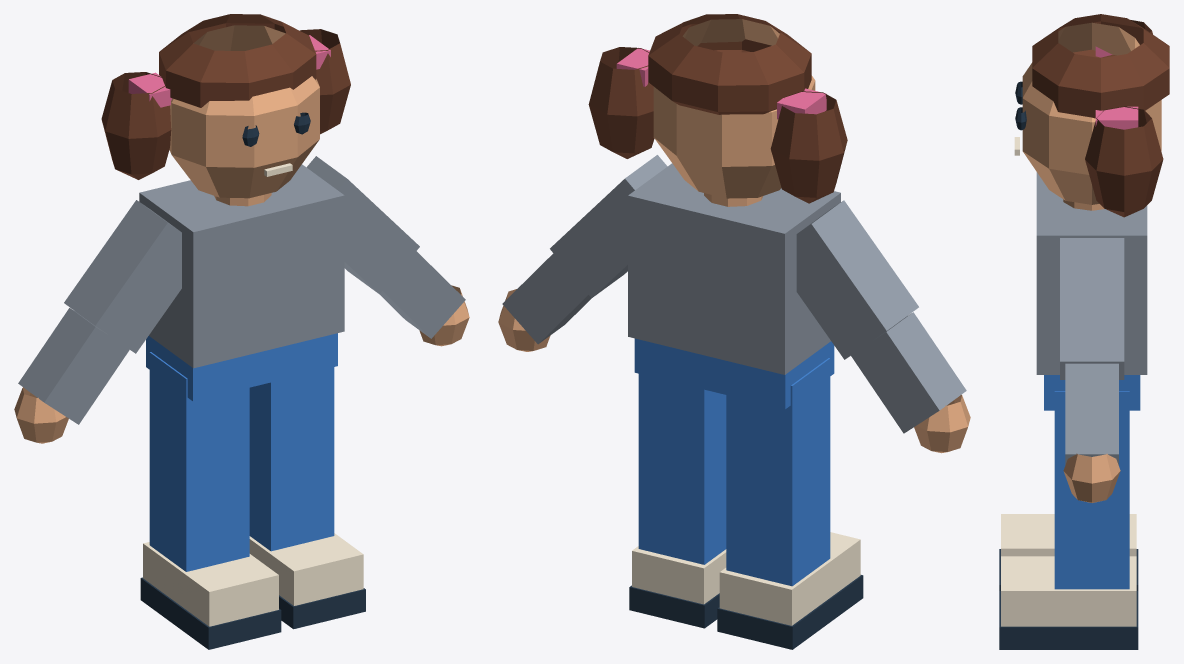
Rendered from 01_runner_kid.obj.
The picture shows the model from 3 angles, left to right: view 1: azimuth 30°, elevation 25°; view 2: azimuth 150°, elevation 25°; view 3: azimuth 270°, elevation 25°; orthographic projection. The views are drawn at different scales.
Parts seen in each view (by area): view 1: part_7, part_2, part_5, part_9, part_11, part_10, part_12, part_0, part_6, part_17, part_3, part_14 (+7 smaller); view 2: part_7, part_2, part_5, part_9, part_11, part_10, part_12, part_6, part_0, part_17, part_14, part_20 (+7 smaller); view 3: part_7, part_5, part_10, part_9, part_17, part_3, part_20, part_18, part_4, part_0, part_19, part_6 (+1 smaller).
Boxes of the visible parts, x1,y1,x2,y2 form: part_7: [139, 164, 344, 368]; part_2: [149, 352, 249, 571]; part_5: [249, 367, 334, 551]; part_9: [169, 25, 319, 198]; part_11: [64, 200, 181, 353]; part_10: [159, 14, 316, 107]; part_12: [18, 308, 129, 424]; part_0: [143, 542, 278, 626]; part_6: [146, 333, 337, 401]; part_17: [306, 156, 419, 294]; part_3: [249, 533, 363, 605]; part_14: [101, 72, 171, 179]; part_7: [628, 163, 840, 374]; part_2: [726, 358, 830, 586]; part_5: [638, 373, 726, 564]; part_9: [653, 19, 815, 198]; part_11: [796, 200, 918, 359]; part_10: [648, 14, 811, 114]; part_12: [851, 312, 966, 433]; part_6: [634, 338, 834, 409]; part_0: [719, 532, 860, 625]; part_17: [550, 155, 667, 297]; part_14: [770, 91, 847, 203]; part_20: [588, 47, 654, 158]; part_7: [1036, 172, 1147, 374]; part_5: [1054, 391, 1129, 589]; part_10: [1032, 14, 1169, 118]; part_9: [1022, 22, 1161, 204]; part_17: [1060, 238, 1124, 379]; part_3: [1001, 556, 1136, 626]; part_20: [1085, 106, 1163, 217]; part_18: [1065, 363, 1118, 465]; part_4: [999, 591, 1138, 649]; part_0: [1001, 514, 1136, 556]; part_19: [1063, 453, 1120, 502]; part_6: [1044, 375, 1140, 410].
Size of the model in its own units: 1.49 by 1.78 by 0.4777.
